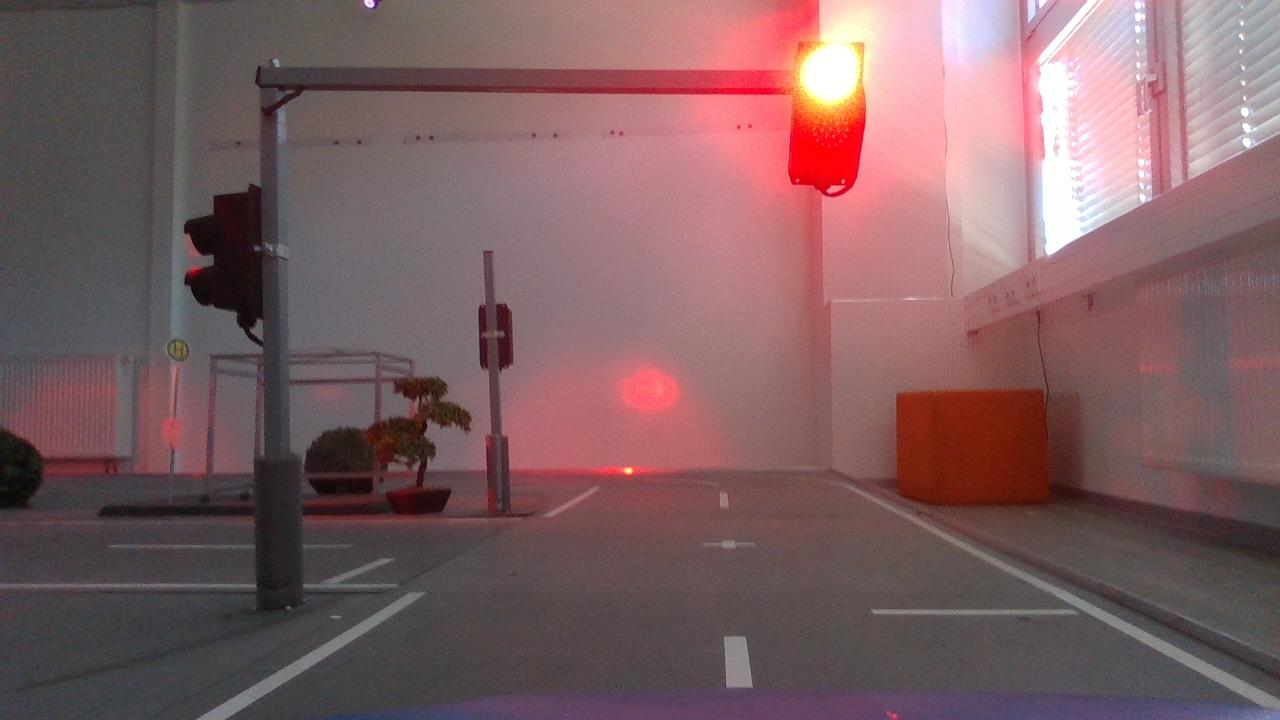traffic_light_red: (771, 25, 891, 221)
